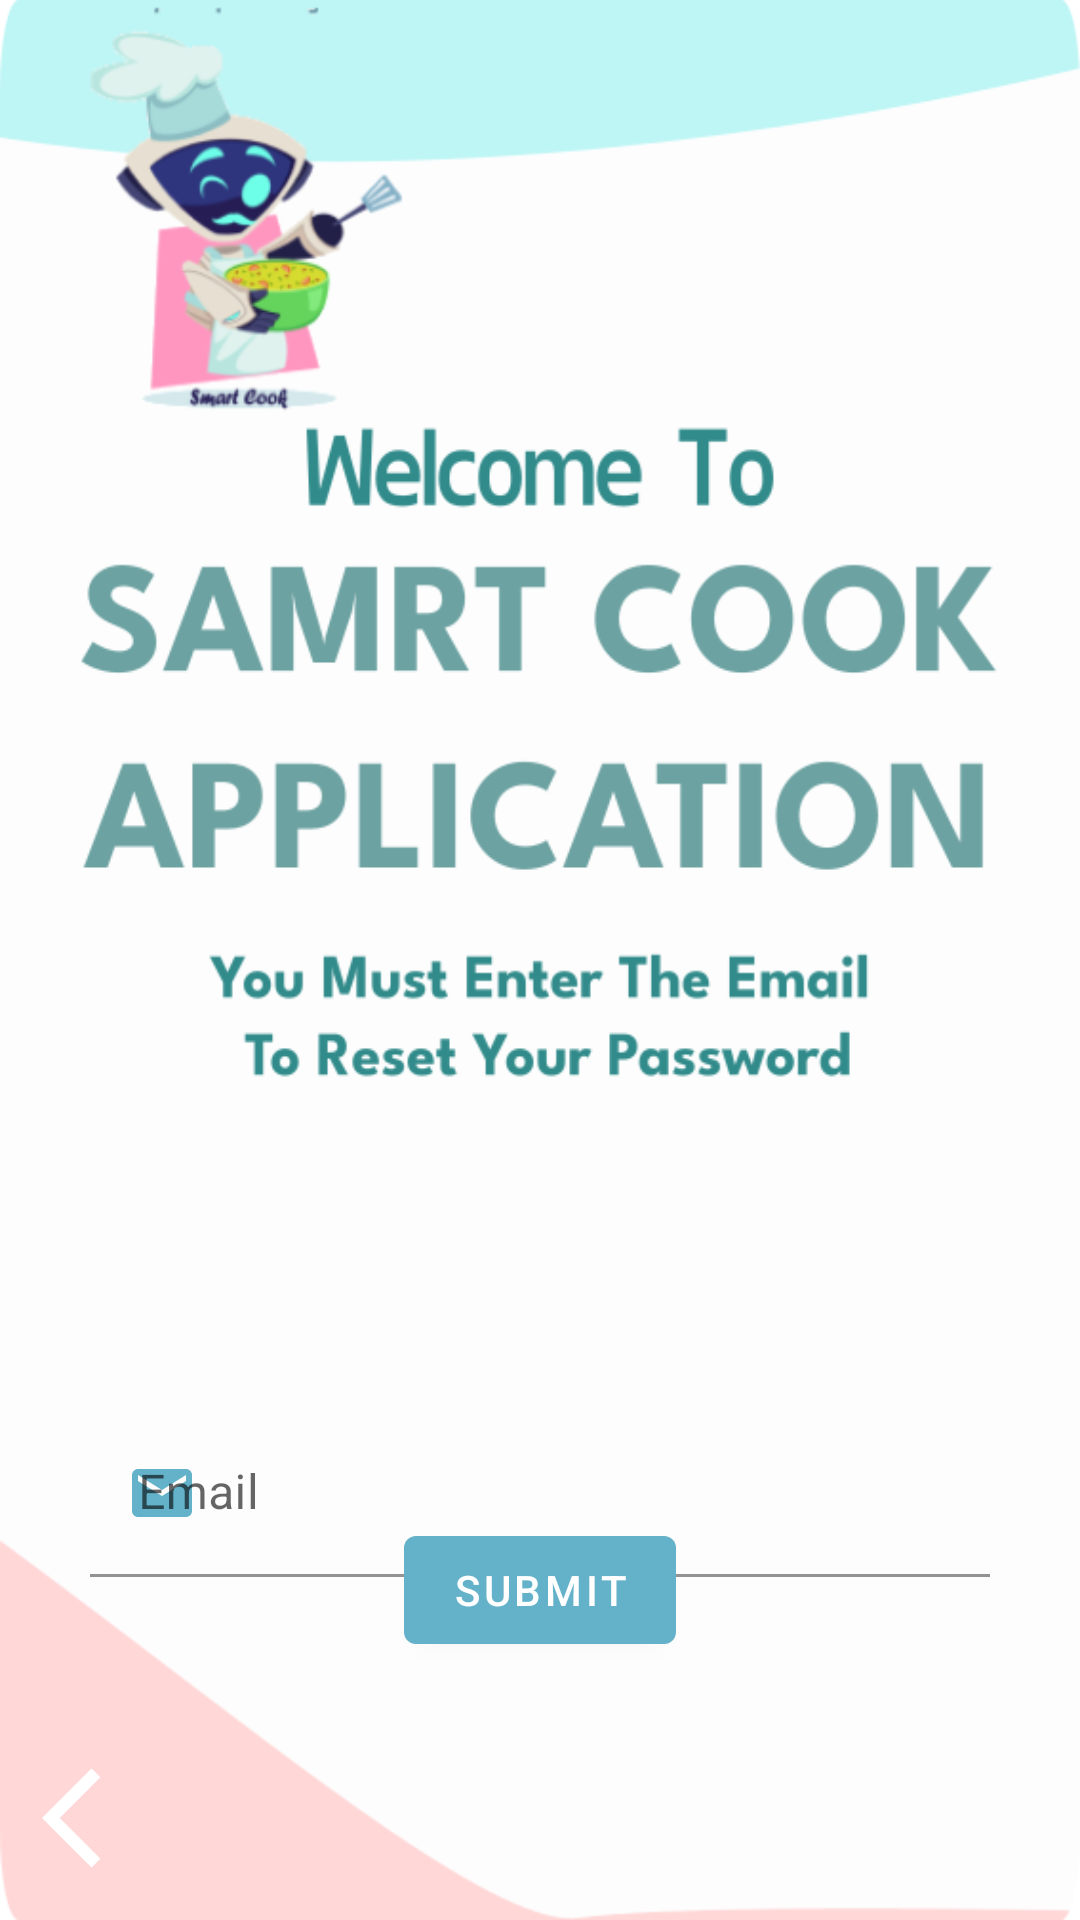

Where icons sit on this 1080w x 1920h app screen, as [x1,y1,x2,y2]:
arrow back: [0,1769,100,1920]
